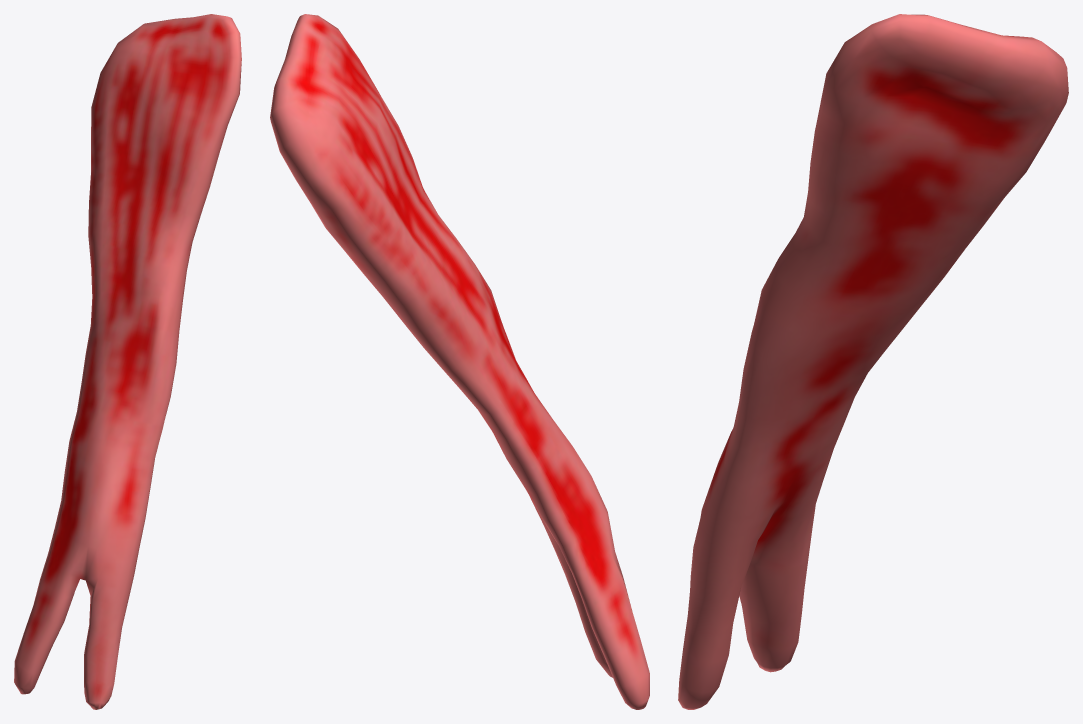
Rendered from Supraspinatus.glb.
3 renders of one model, left to right at view 1: azimuth 30°, elevation 25°; view 2: azimuth 150°, elevation 25°; view 3: azimuth 270°, elevation 25°, orthographic. The views are drawn at different scales.
Visible parts, largest first — view 1: supraspinatus1.012; view 2: supraspinatus1.012; view 3: supraspinatus1.012.
Boxes of the visible parts, bbox=[...] form: supraspinatus1.012: bbox=[14, 14, 241, 709]; supraspinatus1.012: bbox=[270, 14, 649, 709]; supraspinatus1.012: bbox=[678, 14, 1068, 709].
Size of the model in its own units: 0.1694 by 0.3628 by 0.1537.
1 material, 1 textured.
